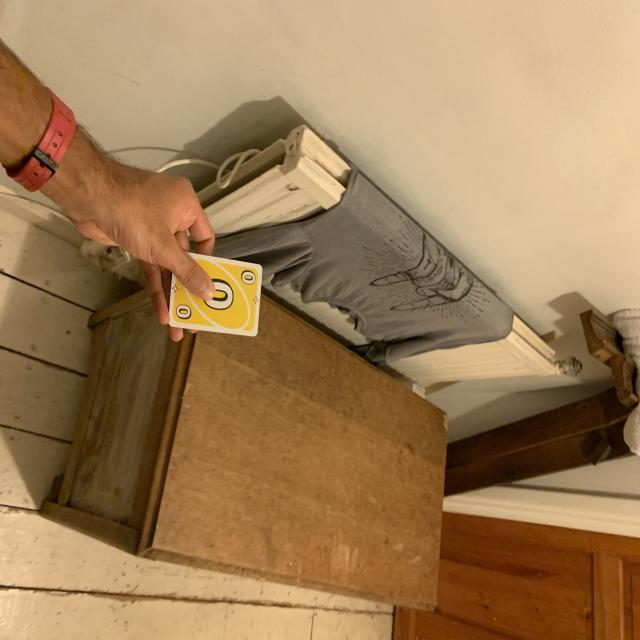lyellow-0: (238, 266, 258, 290)
